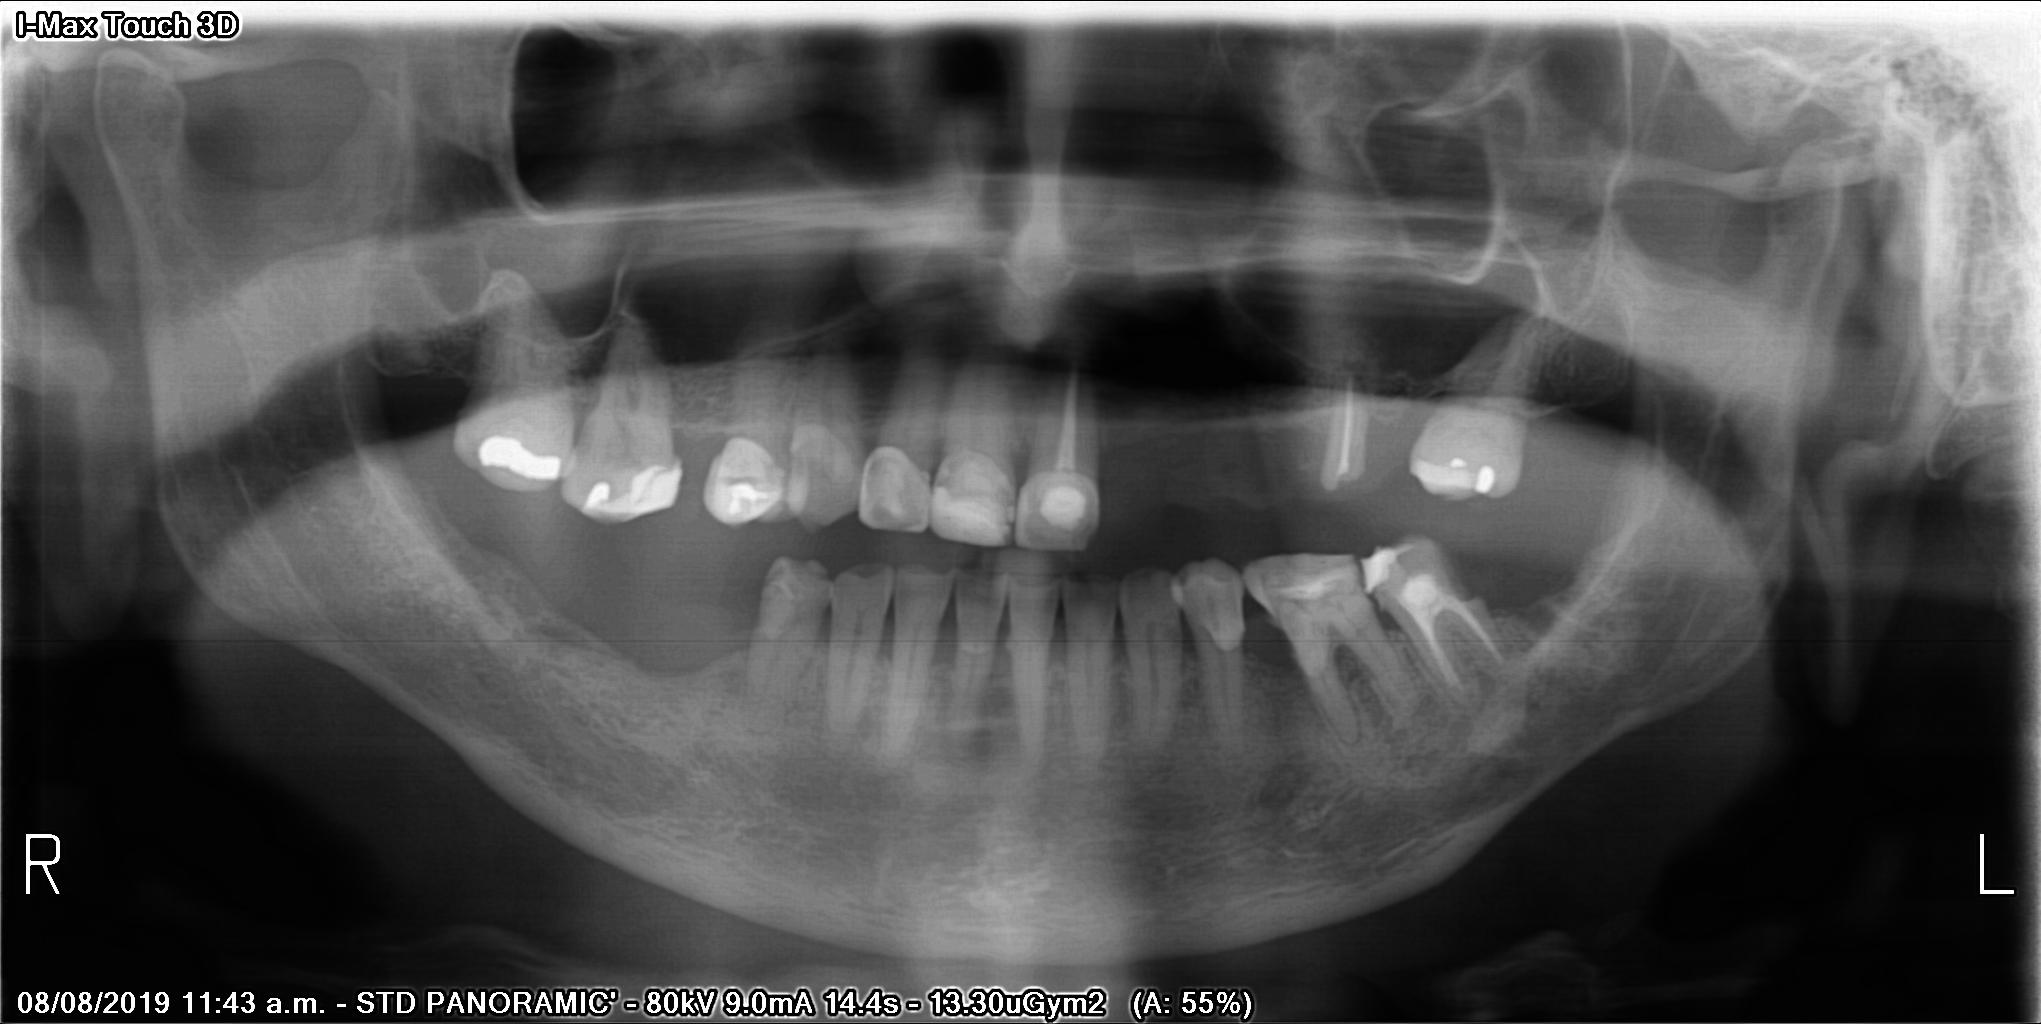Çürük: (704, 424, 787, 528), (578, 452, 693, 521), (470, 424, 568, 488), (1409, 445, 1510, 503), (1028, 479, 1093, 538), (1353, 538, 1413, 597)
Çürük Bölgesi: (1421, 528, 1489, 603), (1196, 620, 1230, 658), (589, 477, 623, 509)
